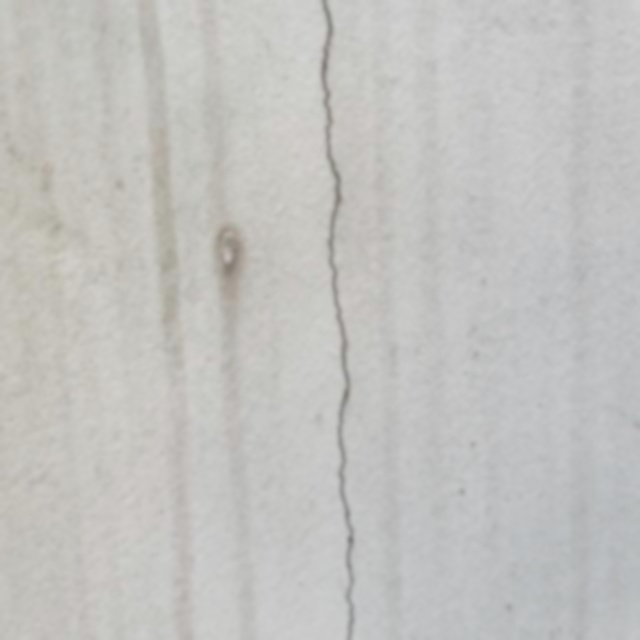SurfaceCrack: (279, 0, 405, 640)
